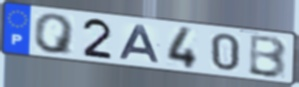0: (209, 32, 243, 72)
2: (81, 17, 114, 61)
4: (165, 25, 200, 71)
A: (117, 24, 163, 64)
B: (246, 33, 288, 80)
Q: (33, 13, 77, 57)
